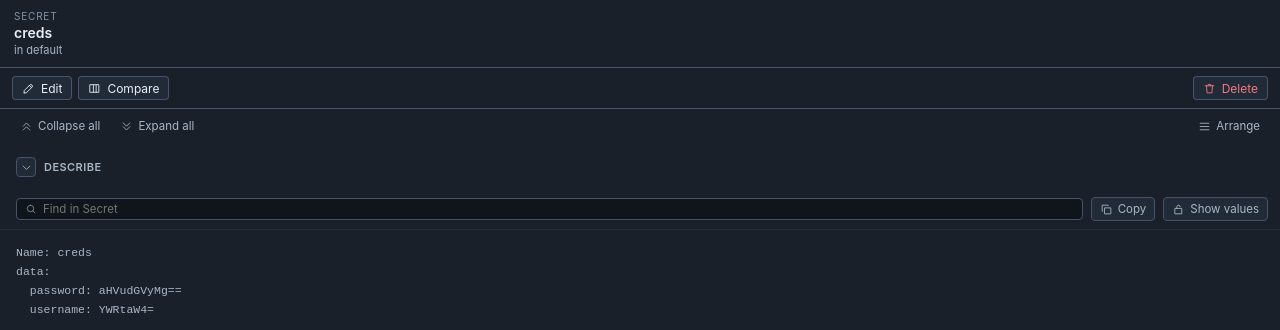
Test case: a search with nothing to find says so rather than emptying the report
Type "nowhere" into the field named "Find in this report".
click(558, 209); type("nowhere")  # box x1=43 y1=202 x2=1074 y2=216
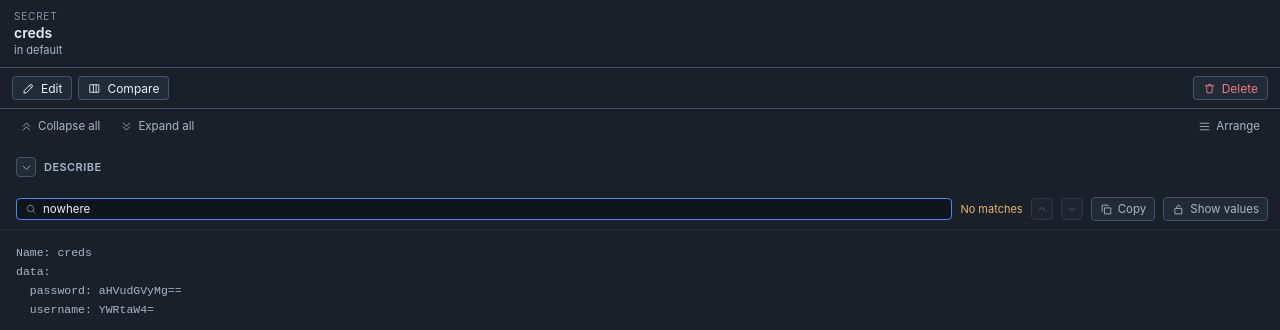
Result: the text "No matches" is shown at x1=960 y1=202 x2=1023 y2=216
